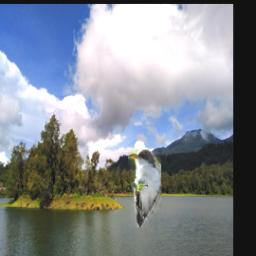Cuckoo: (129, 149, 162, 228)
